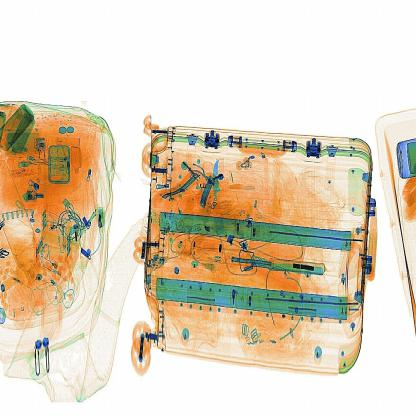wrench: (205, 153, 224, 224)
